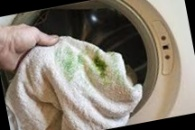earth: (91, 54, 110, 81), (60, 56, 77, 80), (77, 55, 86, 66)
